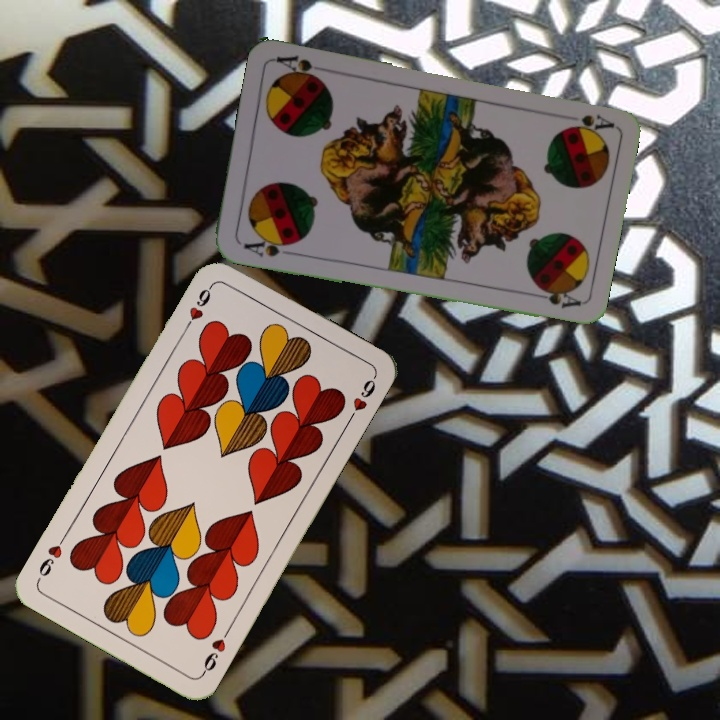H9: (197, 624, 233, 678), (180, 280, 216, 334)
SA: (240, 232, 297, 259), (561, 110, 616, 137)
